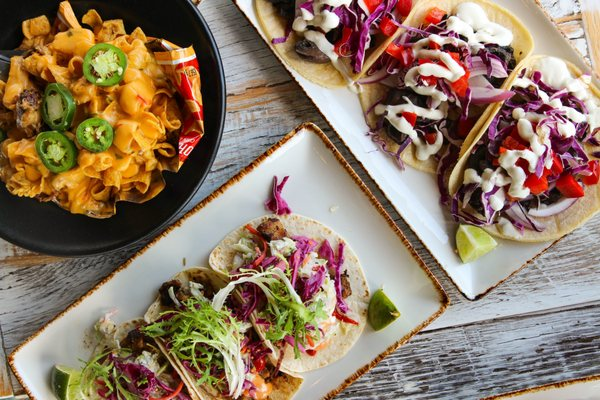sushi: (0, 0, 229, 262)
